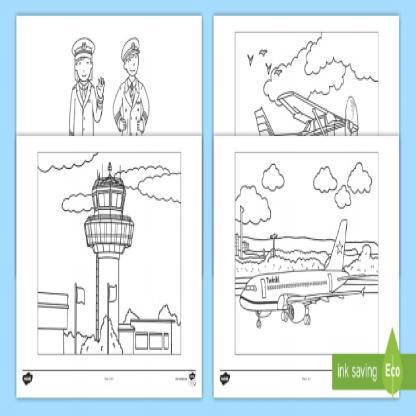CIV_Plane: (231, 218, 352, 326)
